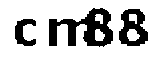8: (115, 7, 150, 50), (90, 7, 114, 49)
c: (11, 18, 37, 47)
m: (46, 15, 91, 49)
